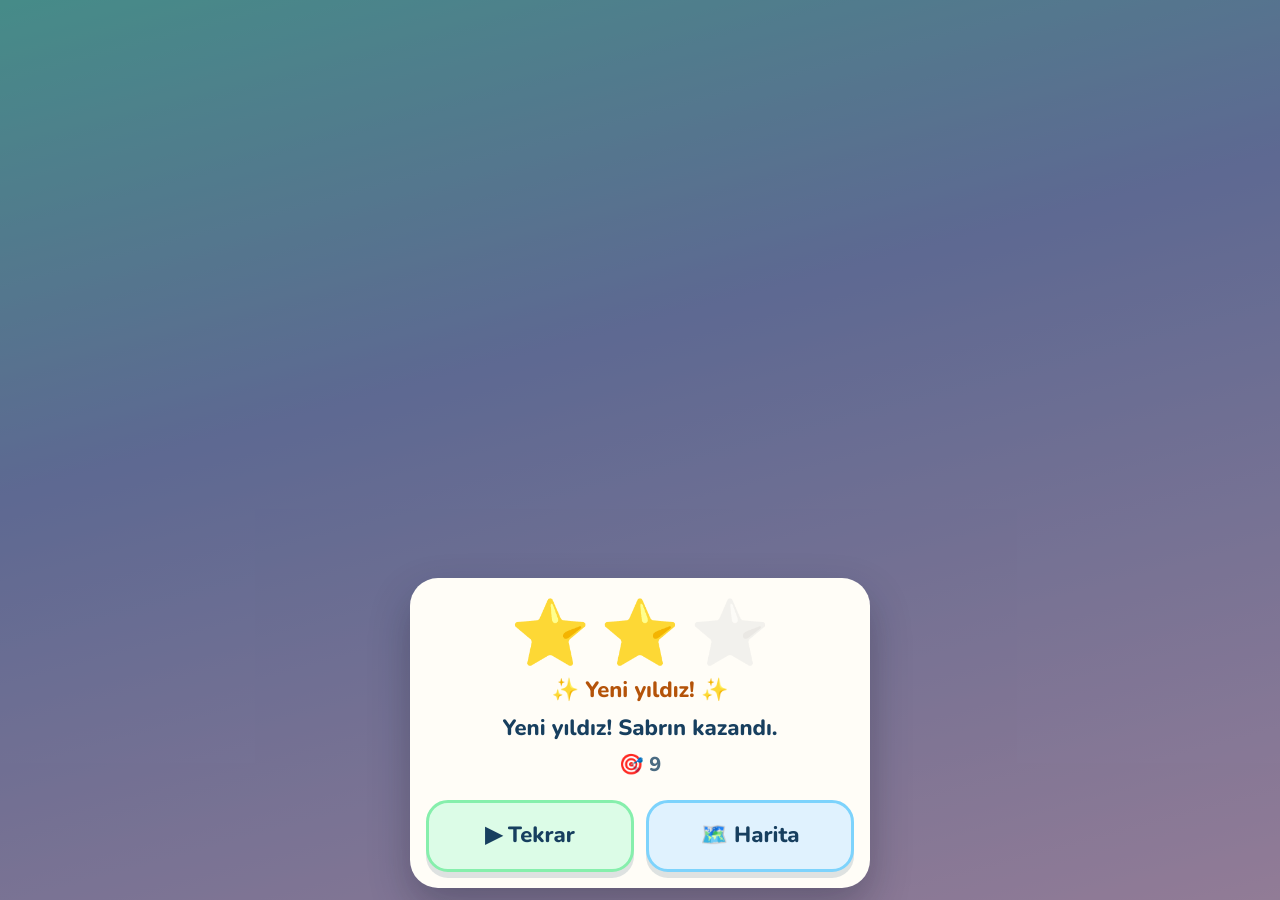
Scenario: RewardSheet › sayfa açıkken akşam başlarsa Tekrar yeniden başlatmaz, Harita'ya döner
The width and height of the screenshot is (1280, 900).
What coordinates should you click on to do the following:
click the button "▶ Tekrar"
I would click on:
 (530, 836)
Its box is [426,800,634,872].
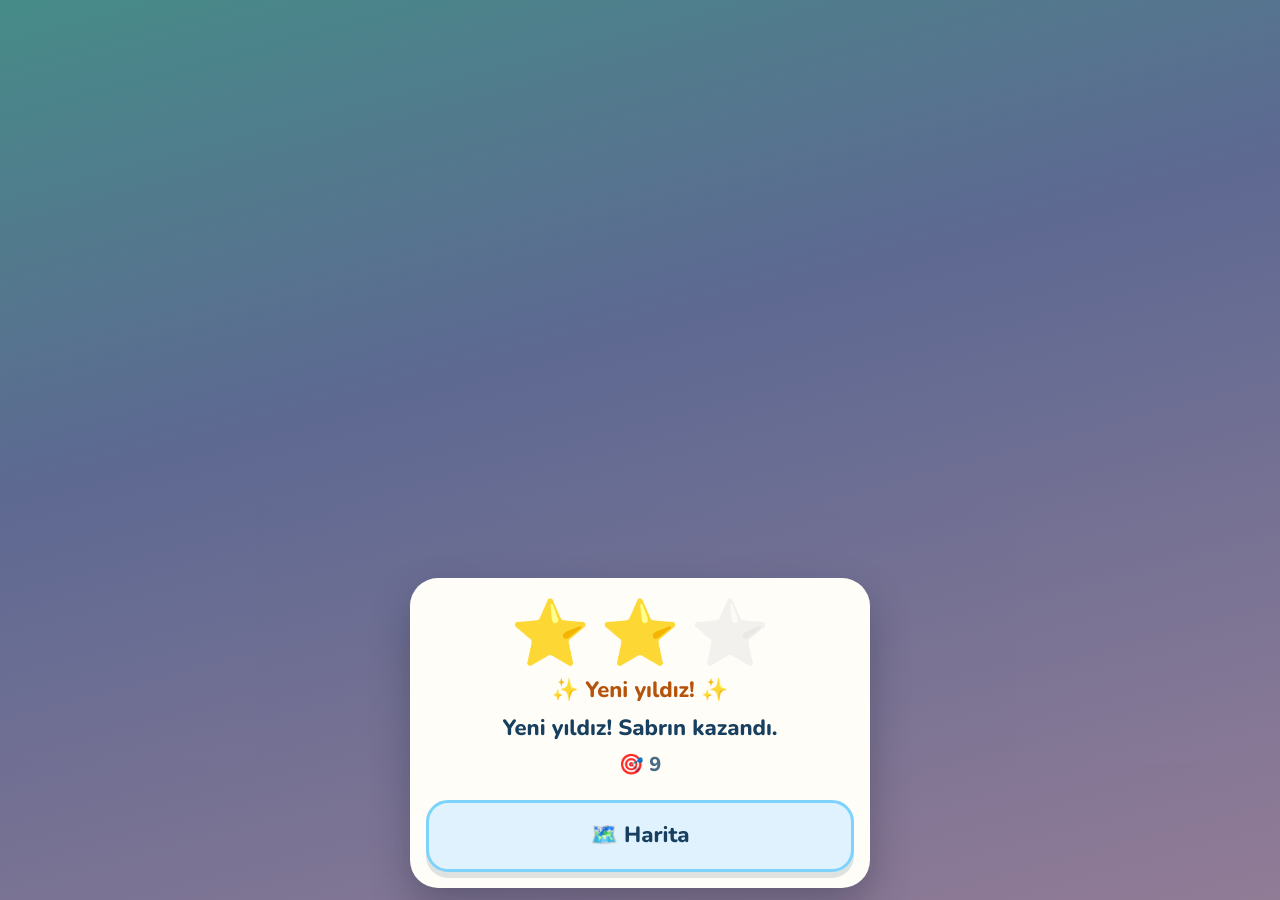
Check: the button "🗺️ Harita" is shown, box [426,800,854,872]
Check: the button "▶ Tekrar" is gone
